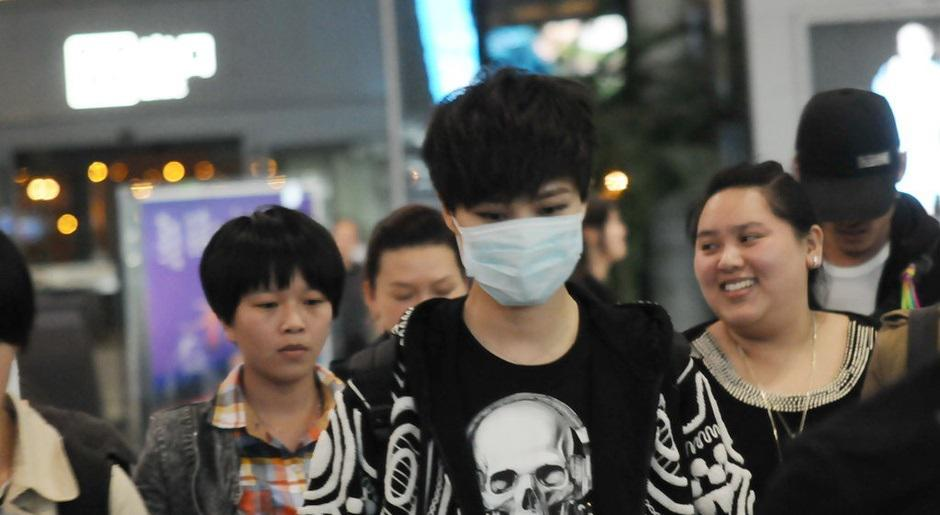NONE: (697, 209, 783, 323), (235, 294, 331, 375), (814, 174, 889, 260)
OK: (454, 171, 588, 305)
